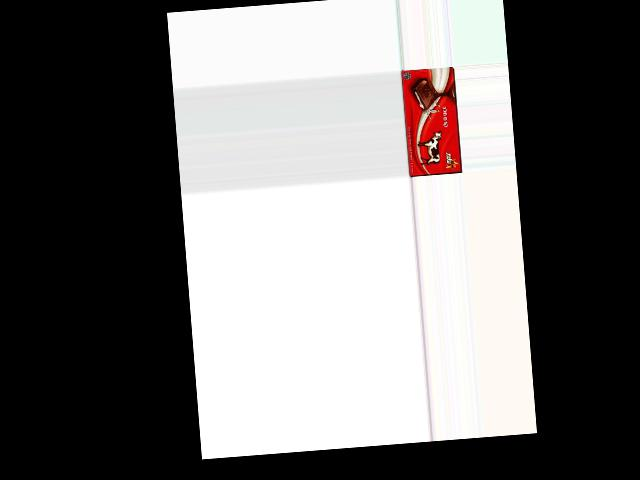chocolate: (400, 66, 462, 179)
